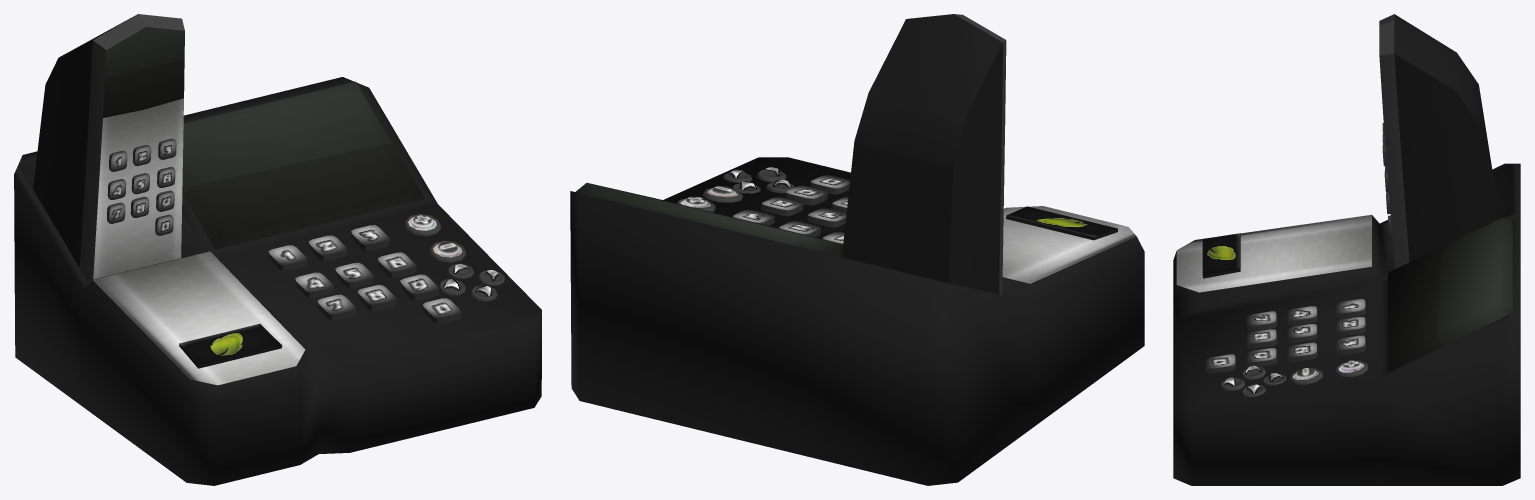
Rendered from Phone.FBX.
3 renders of one model, left to right at view 1: azimuth 30°, elevation 25°; view 2: azimuth 150°, elevation 25°; view 3: azimuth 270°, elevation 25°, orthographic. The views are drawn at different scales.
Parts seen in each view (by area): view 1: Phone; view 2: Phone; view 3: Phone.
Part boxes in pixels (x1,y1,x2,y2): Phone: [14, 14, 541, 485]; Phone: [570, 14, 1144, 485]; Phone: [1173, 14, 1520, 485].
Bounding box in the file's own units: 65.89 × 65.86 × 61.59.
